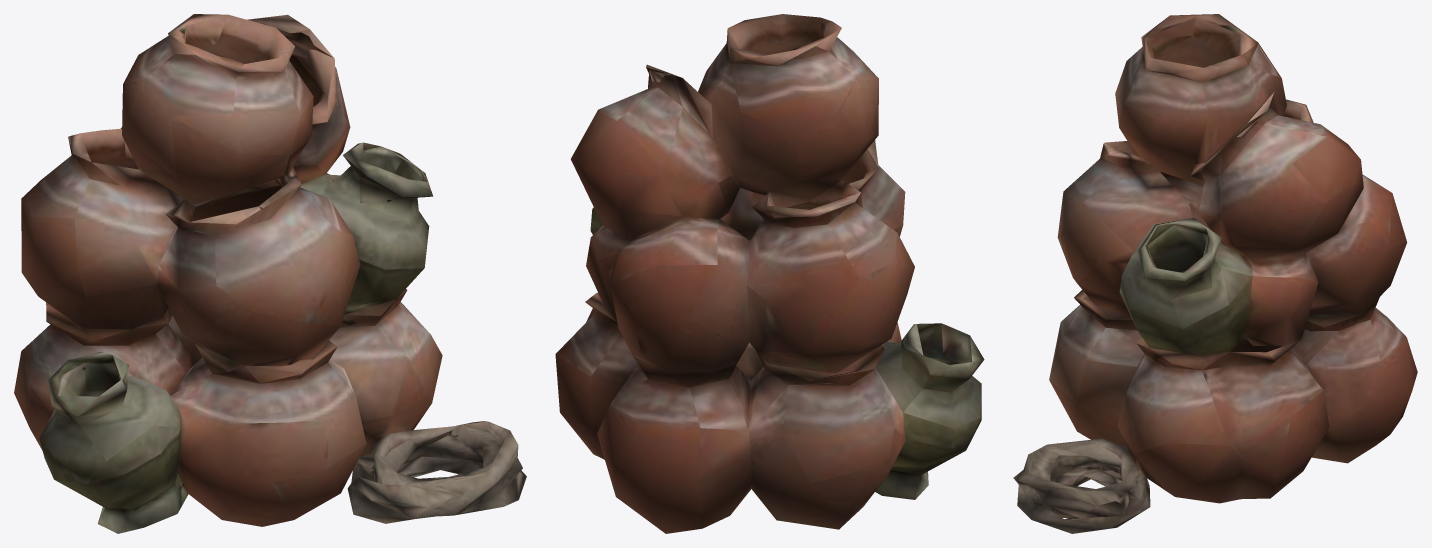
File: pots.glb
3 views of the same model, side by side, from view 1: azimuth 30°, elevation 25°; view 2: azimuth 150°, elevation 25°; view 3: azimuth 270°, elevation 25° (orthographic). The views are drawn at different scales.
Visible parts, largest first — view 1: pots; view 2: pots; view 3: pots.
Part boxes in pixels (x1,y1,x2,y2): pots: [14, 14, 526, 533]; pots: [555, 14, 984, 533]; pots: [1013, 14, 1417, 533].
Bounding box in the file's own units: 0.3338 × 0.3499 × 0.3142.
Materials: 1 (1 with a texture image).
